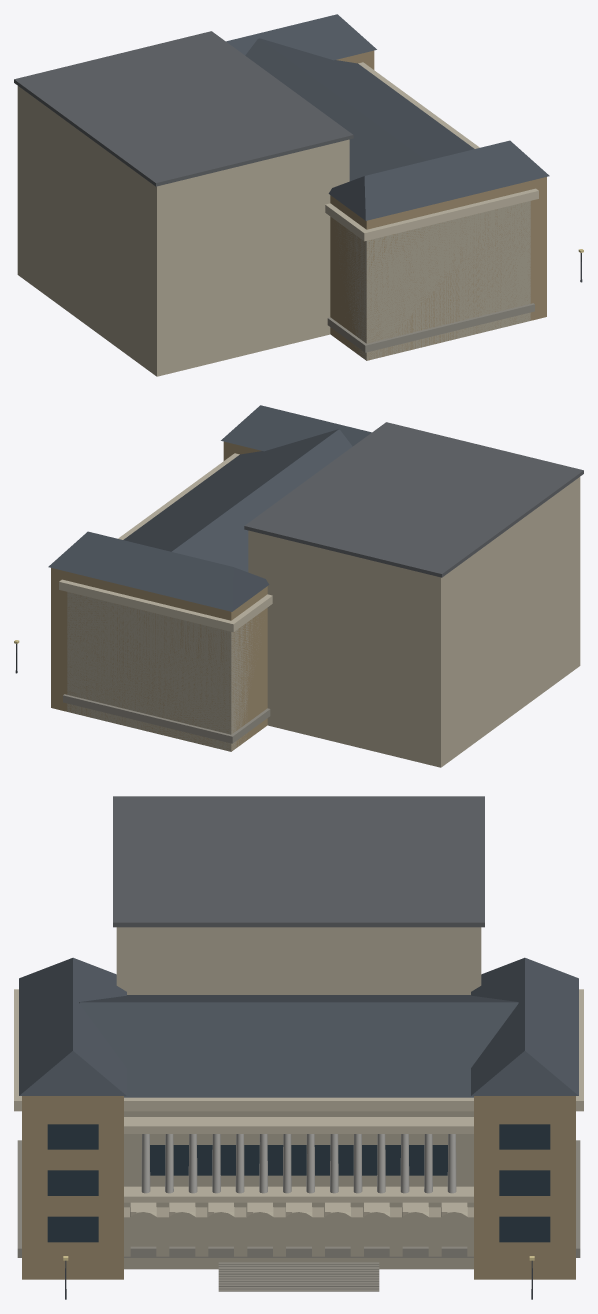
Rendered from desktop.glb.
3 renders of one model, top to bottom at view 1: azimuth 30°, elevation 25°; view 2: azimuth 150°, elevation 25°; view 3: azimuth 270°, elevation 25°, orthographic. The views are drawn at different scales.
Visible parts, largest first — view 1: lm.opera-house; view 2: lm.opera-house; view 3: lm.opera-house.
Boxes of the visible parts, x1,y1,x2,y2 form: lm.opera-house: (14, 14, 583, 376); lm.opera-house: (14, 405, 583, 767); lm.opera-house: (14, 796, 583, 1299).
Bounding box in the file's own units: 84.85 × 38.7 × 78.2.
